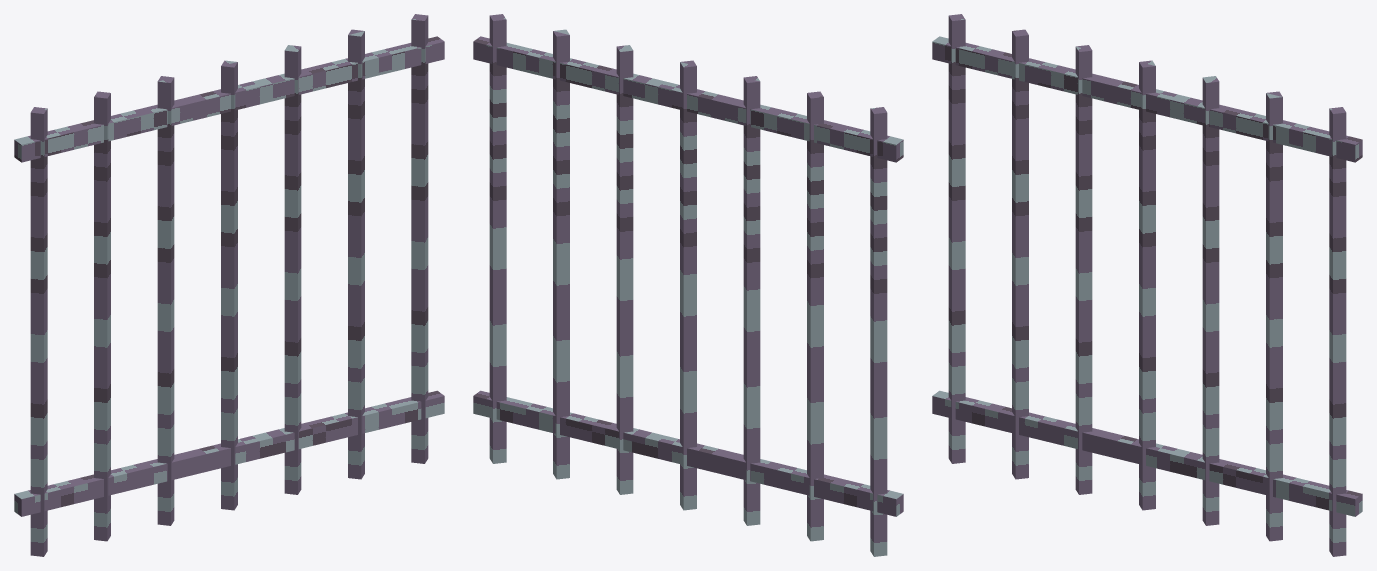
Rendered from a57_coluna_de_corrente.glb.
3 views of the same model, side by side, from view 1: azimuth 30°, elevation 25°; view 2: azimuth 150°, elevation 25°; view 3: azimuth 330°, elevation 25° (orthographic).
Visible parts, largest first — view 1: a57_coluna_de_corrente; view 2: a57_coluna_de_corrente; view 3: a57_coluna_de_corrente.
Boxes of the visible parts, x1,y1,x2,y2 form: a57_coluna_de_corrente: [14, 14, 444, 556]; a57_coluna_de_corrente: [473, 14, 903, 556]; a57_coluna_de_corrente: [932, 14, 1362, 556].
Bounding box in the file's own units: 2 × 2 × 0.08.
Materials: 1 (1 with a texture image).
